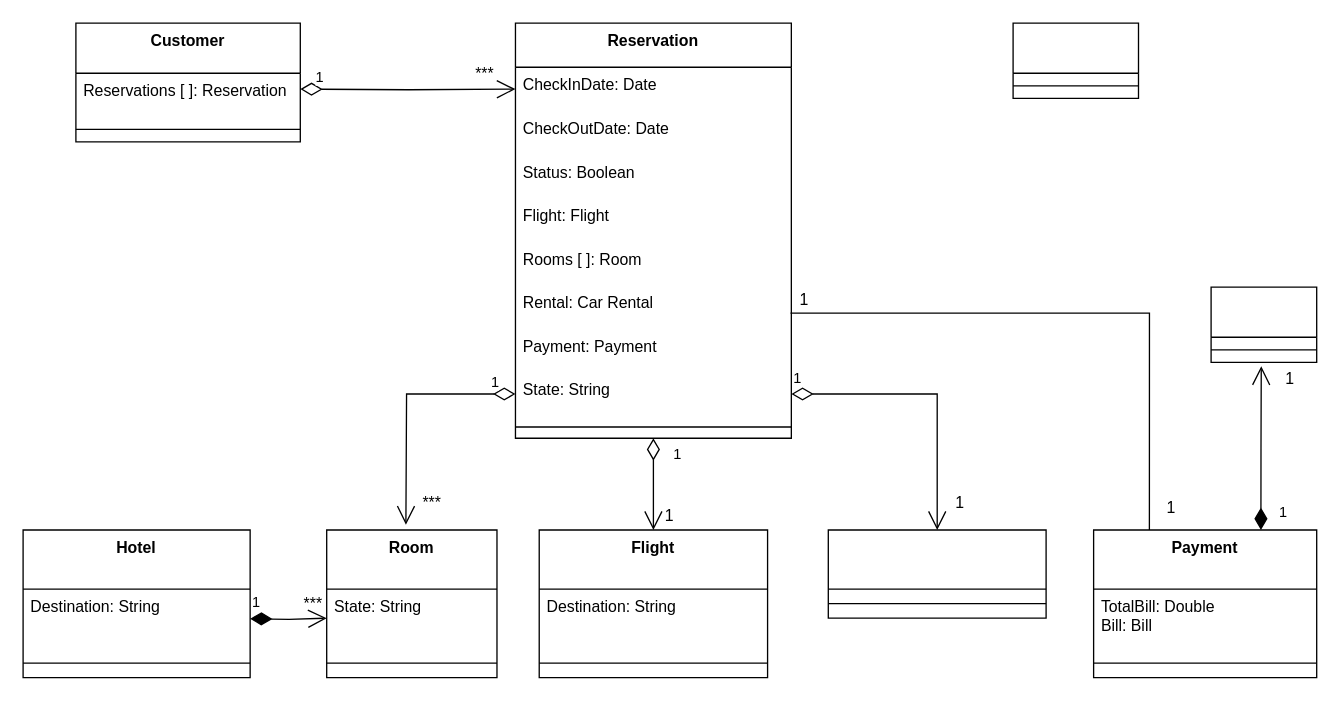
Some shapes in this 1340 by 701 pixel diagram are drawn without their labels. The shapes that lost their labels are listed below. From the top down, each one's centre as x and y in pixels, then its label:
At (x=1075, y=60): "Admin".
At (x=1263, y=324): "Bill".
At (x=936, y=573): "Car Rental".
